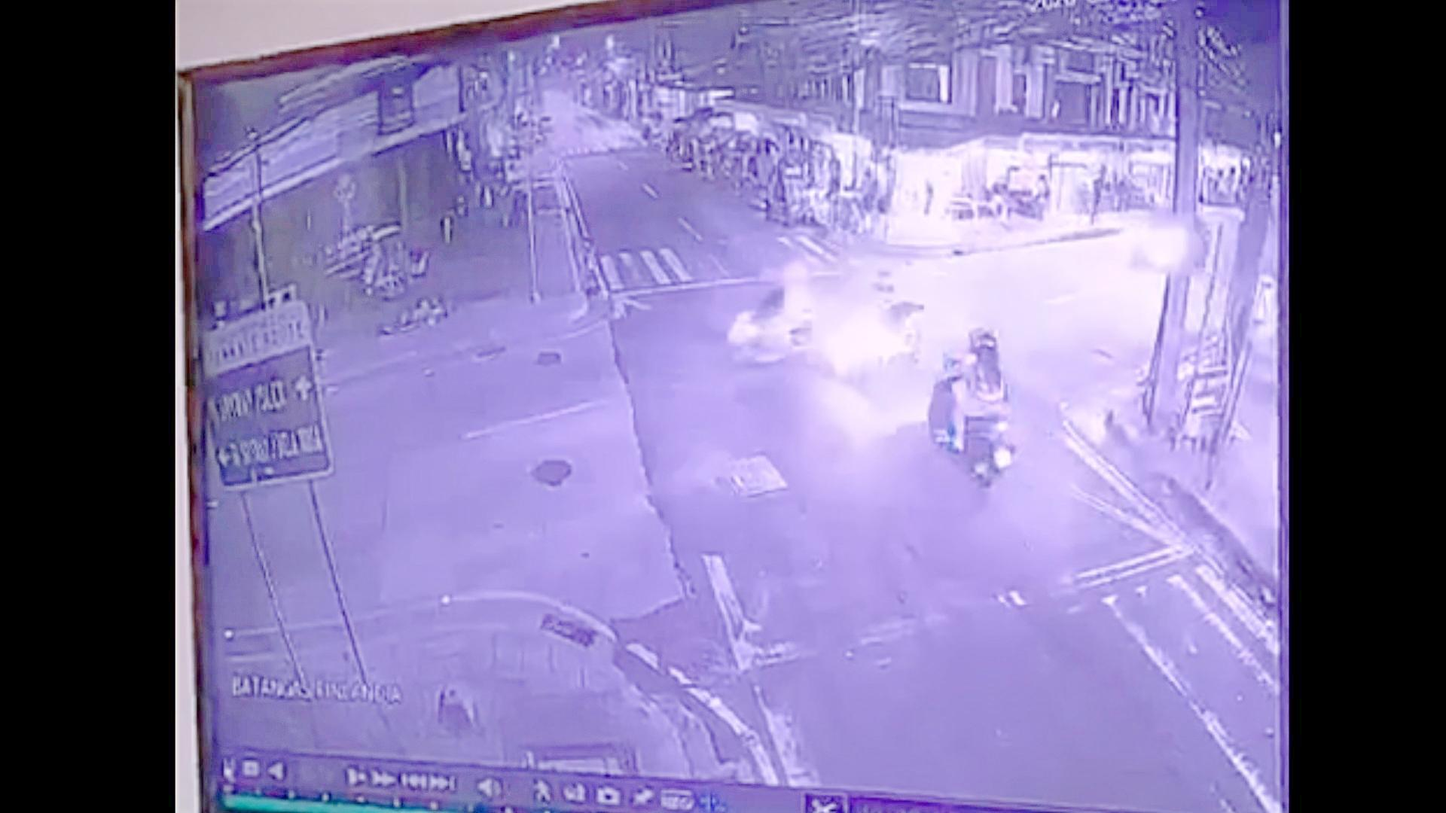Major Accident: (735, 263, 928, 384)
Motor: (931, 327, 1012, 482), (835, 269, 925, 380), (735, 281, 823, 365)
